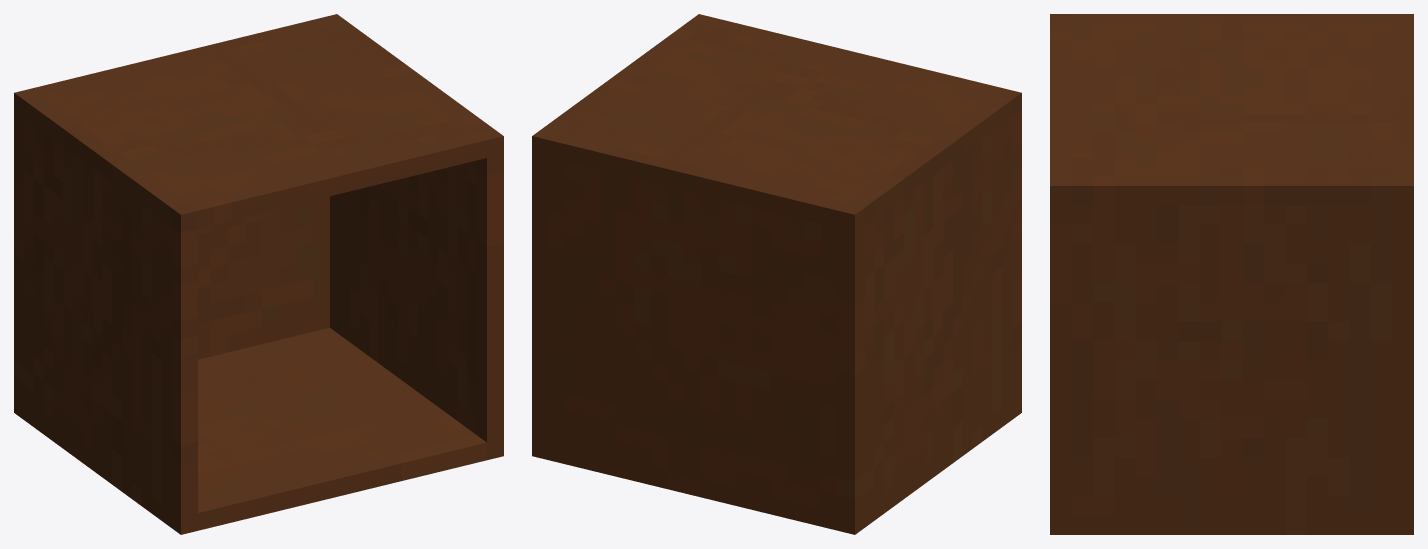
Rendered from storage1-1.obj.
The picture shows the model from 3 angles, left to right: view 1: azimuth 30°, elevation 25°; view 2: azimuth 150°, elevation 25°; view 3: azimuth 270°, elevation 25°; orthographic projection. The views are drawn at different scales.
Bounding box in the file's own units: 1.9 × 1.8 × 1.7.
1 material, 1 textured.
